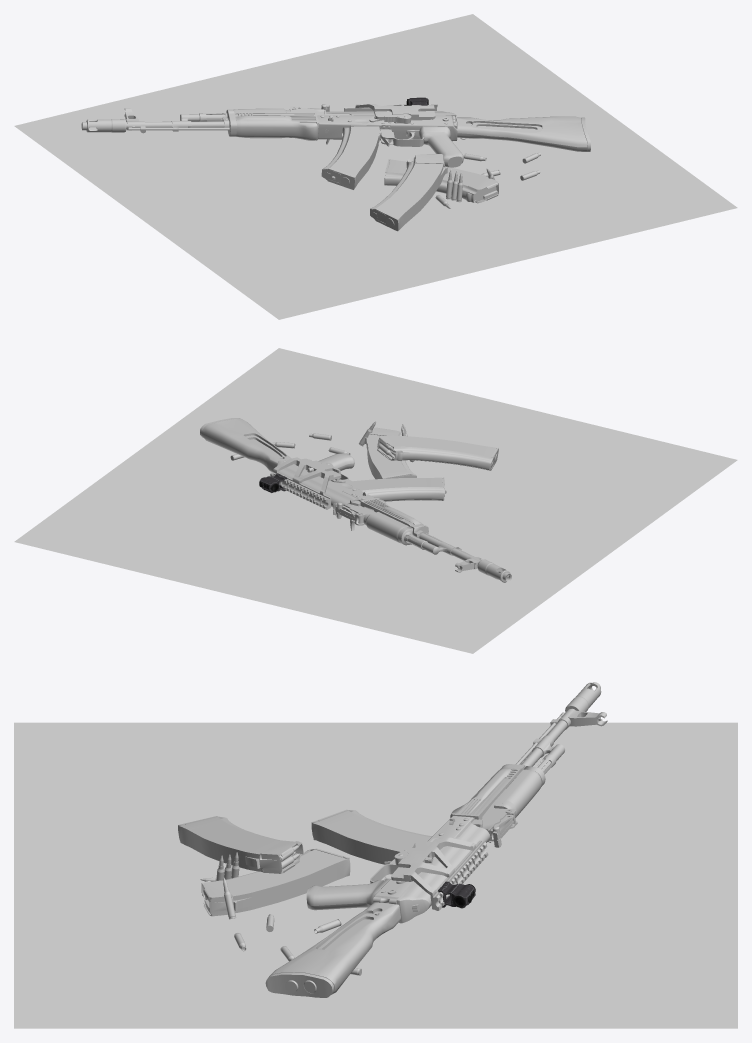
3 views of the same model, one above another, from view 1: azimuth 30°, elevation 25°; view 2: azimuth 150°, elevation 25°; view 3: azimuth 270°, elevation 25° (orthographic). The views are drawn at different scales.
Visible parts, largest first — view 1: Plane, priclad_low, magazin_low.002, magazin_low, prd_low, osn_low, magazin_low.001, b4_low, detal1_low, stvol_low, dulo_low; view 2: Plane, magazin_low.002, priclad_low, magazin_low, detal1_low, magazin_low.001, abra_low, prw_low, prd_low; view 3: Plane, magazin_low.001, priclad_low, magazin_low.002, magazin_low, detal1_low, abra_low, b4_low, prd_low, g2_low, prw_low, osn_low (+3 smaller).
Boxes of the visible parts, x1=… form: Plane: x1=14, y1=14, x2=737, y2=319; priclad_low: x1=455, y1=116, x2=587, y2=151; magazin_low.002: x1=370, y1=154, x2=447, y2=231; magazin_low: x1=321, y1=125, x2=380, y2=189; prd_low: x1=234, y1=112, x2=318, y2=140; osn_low: x1=317, y1=115, x2=457, y2=141; magazin_low.001: x1=384, y1=159, x2=498, y2=203; b4_low: x1=419, y1=126, x2=463, y2=167; detal1_low: x1=344, y1=104, x2=437, y2=119; stvol_low: x1=126, y1=113, x2=236, y2=136; dulo_low: x1=81, y1=119, x2=126, y2=132; Plane: x1=14, y1=348, x2=737, y2=653; magazin_low.002: x1=377, y1=435, x2=498, y2=470; priclad_low: x1=201, y1=419, x2=291, y2=472; magazin_low: x1=345, y1=477, x2=444, y2=503; detal1_low: x1=270, y1=457, x2=341, y2=509; magazin_low.001: x1=364, y1=427, x2=416, y2=479; abra_low: x1=277, y1=460, x2=355, y2=508; prw_low: x1=366, y1=512, x2=408, y2=543; prd_low: x1=360, y1=498, x2=422, y2=526; Plane: x1=14, y1=722, x2=737, y2=1028; magazin_low.001: x1=201, y1=848, x2=350, y2=916; priclad_low: x1=269, y1=902, x2=400, y2=994; magazin_low.002: x1=178, y1=816, x2=303, y2=873; magazin_low: x1=311, y1=809, x2=432, y2=864; detal1_low: x1=391, y1=837, x2=488, y2=910; abra_low: x1=396, y1=823, x2=490, y2=923; b4_low: x1=306, y1=878, x2=390, y2=910; prd_low: x1=450, y1=767, x2=522, y2=819; g2_low: x1=265, y1=972, x2=334, y2=997; prw_low: x1=495, y1=769, x2=541, y2=817; osn_low: x1=373, y1=816, x2=472, y2=922.
Bounding box in the file's own units: 383 × 31.95 × 383.
